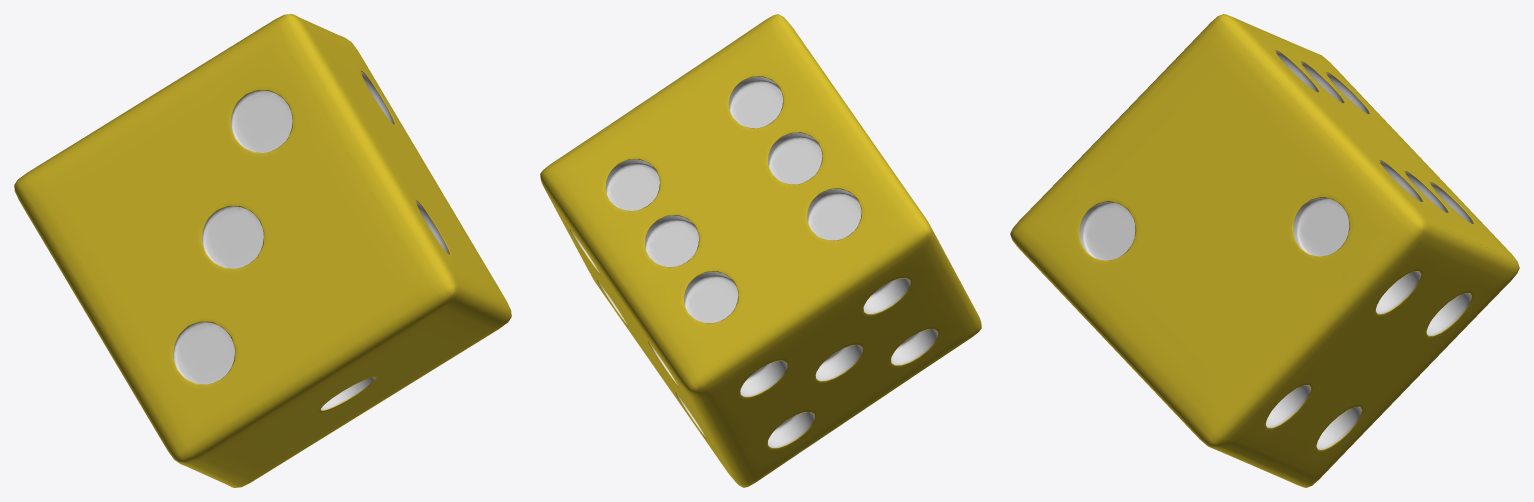
Rendered from DiceRoll3.gltf.
3 views of the same model, side by side, from view 1: azimuth 30°, elevation 25°; view 2: azimuth 150°, elevation 25°; view 3: azimuth 270°, elevation 25° (orthographic). The views are drawn at different scales.
Visible parts, largest first — view 1: Cube; view 2: Cube; view 3: Cube.
Boxes of the visible parts, box(x1,y1,x2,y2) form: Cube: box(14, 14, 511, 487); Cube: box(540, 14, 981, 487); Cube: box(1010, 14, 1519, 487).
Size of the model in its own units: 3.01 by 3.29 by 3.19.
Materials: 1 (1 with a texture image).
